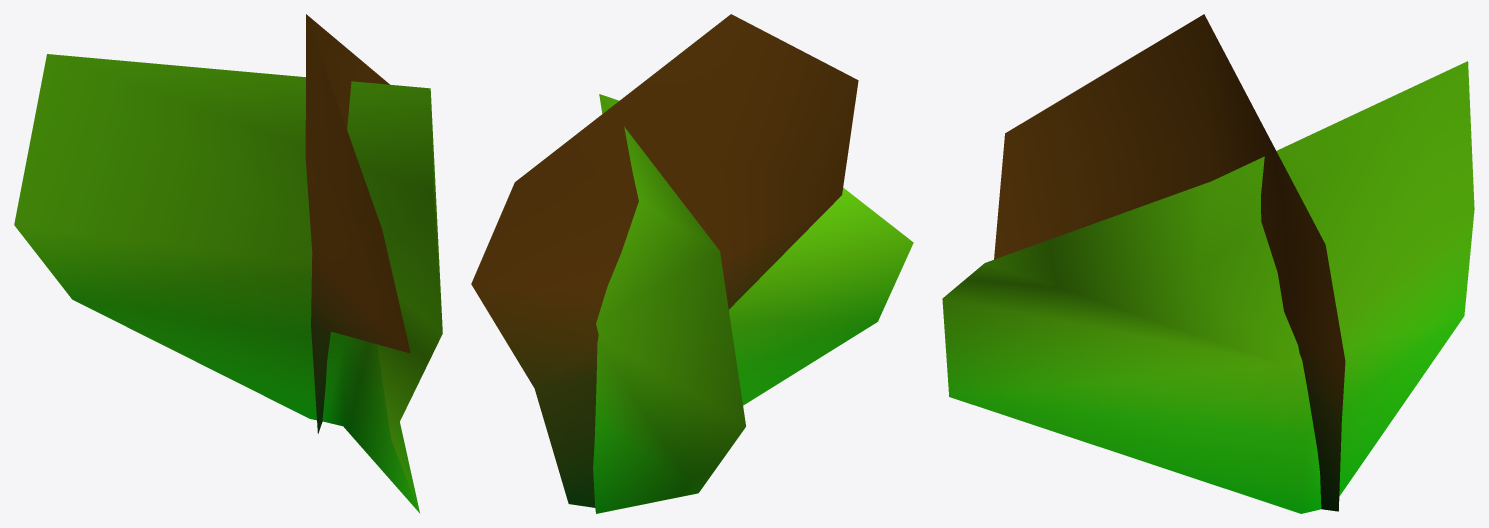
File: Var1Hi58.fbx
The picture shows the model from 3 angles, left to right: view 1: azimuth 30°, elevation 25°; view 2: azimuth 150°, elevation 25°; view 3: azimuth 270°, elevation 25°; orthographic projection. The views are drawn at different scales.
Parts seen in each view (by area): view 1: bend1; view 2: bend1; view 3: bend1.
Boxes of the visible parts, x1,y1,x2,y2 form: bend1: (14,14,442,513); bend1: (471,14,913,513); bend1: (942,14,1474,513).
Bounding box in the file's own units: 1.03 × 1.37 × 1.43.
